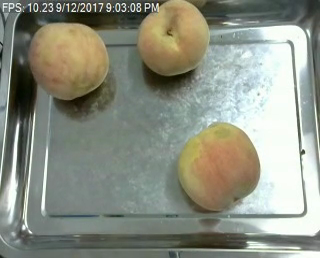Peach: (177, 120, 261, 211), (28, 22, 110, 99), (137, 0, 209, 77)
